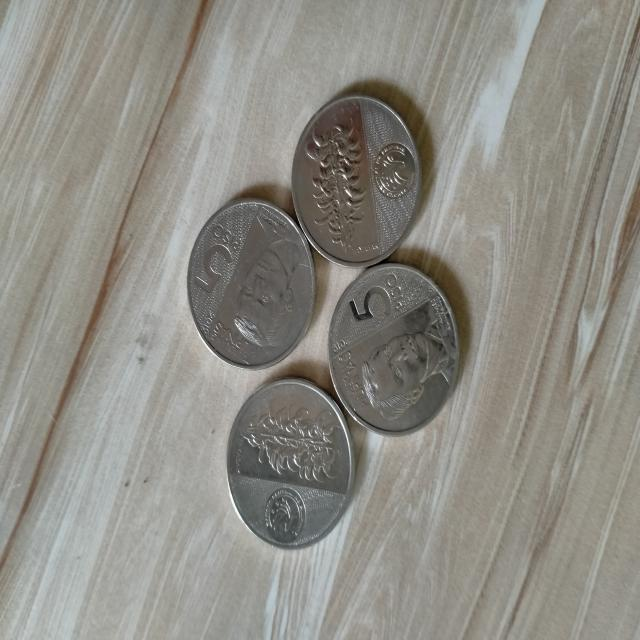5_New_Back: (229, 382, 349, 487), (303, 107, 369, 251)
5_New_Front: (184, 208, 253, 311), (343, 266, 416, 346)
